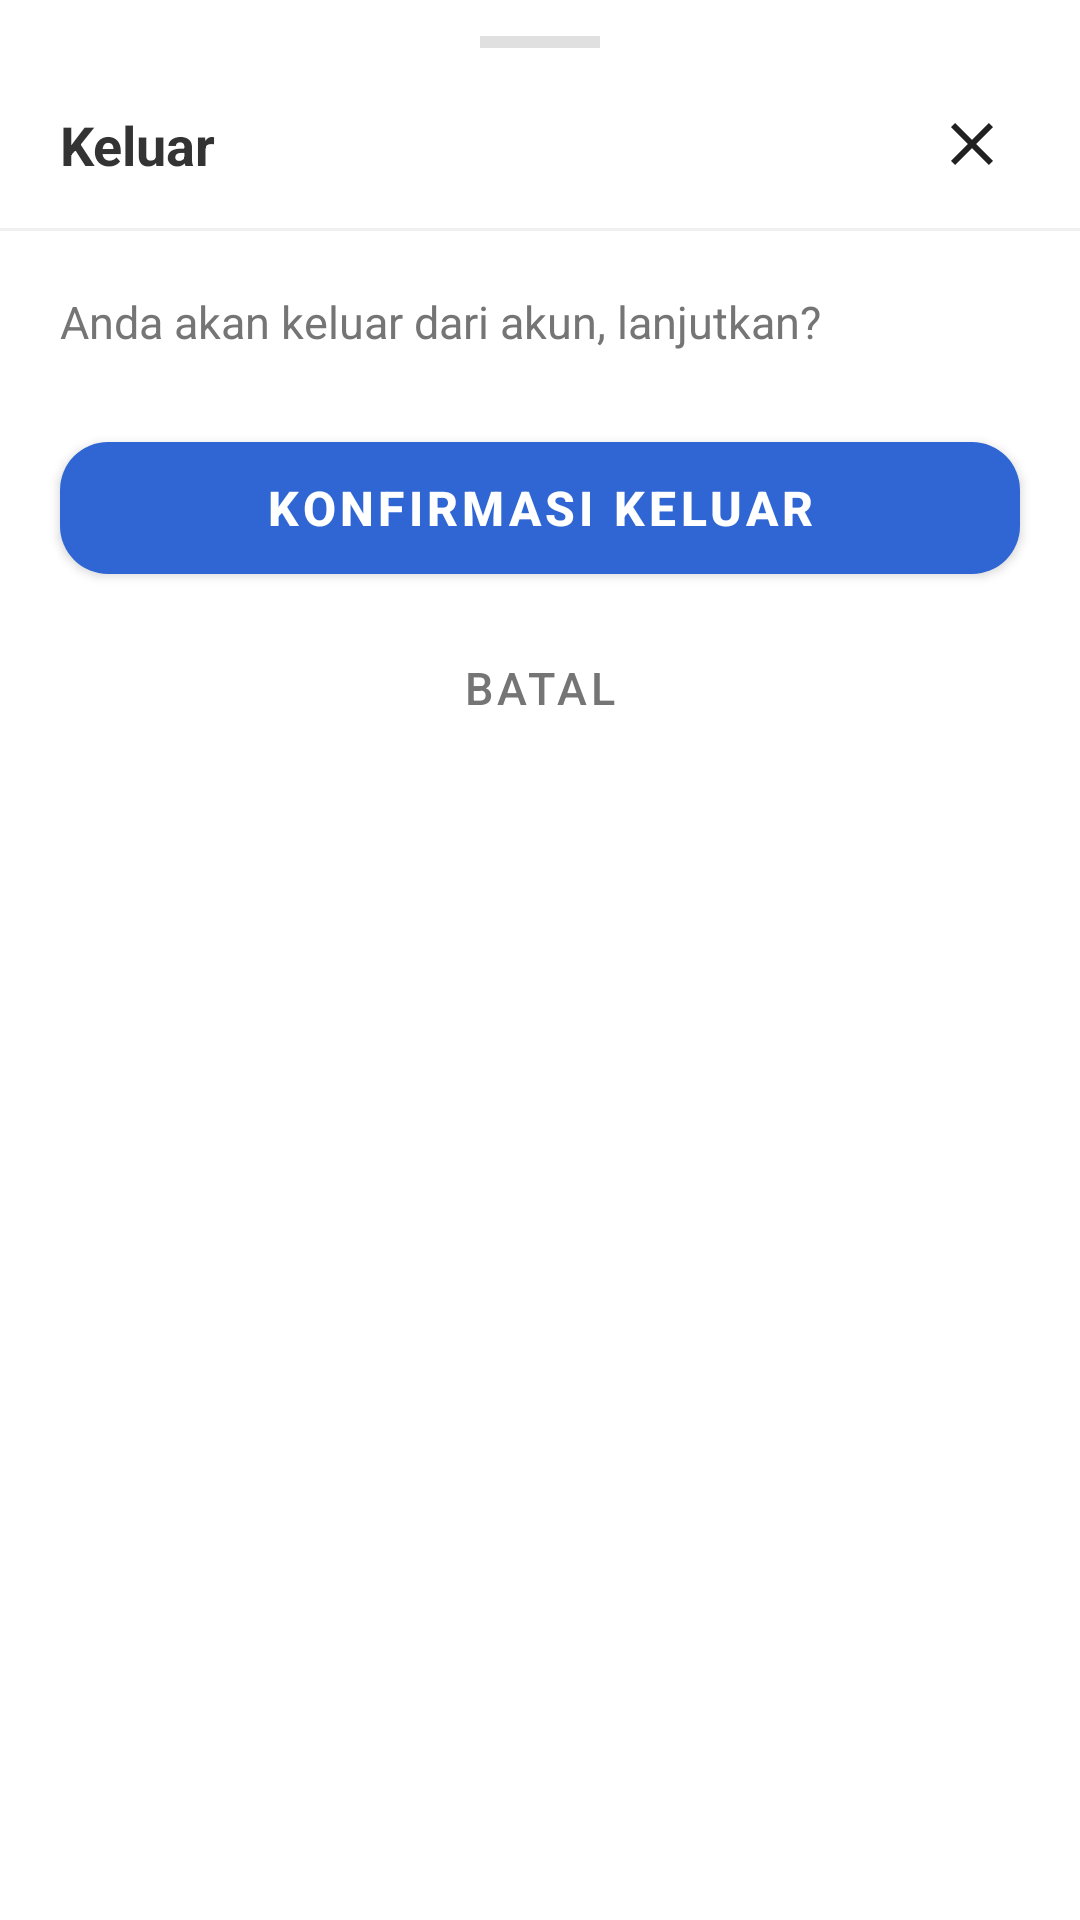

Screen size 1080x1920. Icon name, then its box in pixels as Rect(x1, y1, x2, y2):
Tutup: Rect(951, 123, 993, 165)
